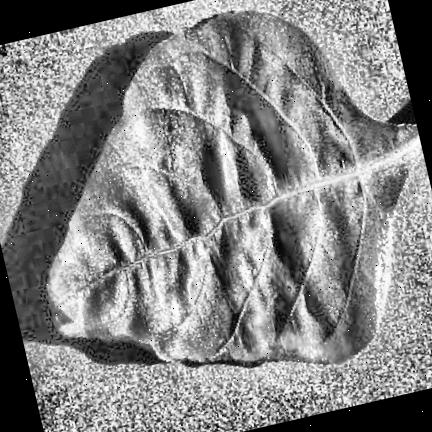leaf: (47, 11, 422, 364)
